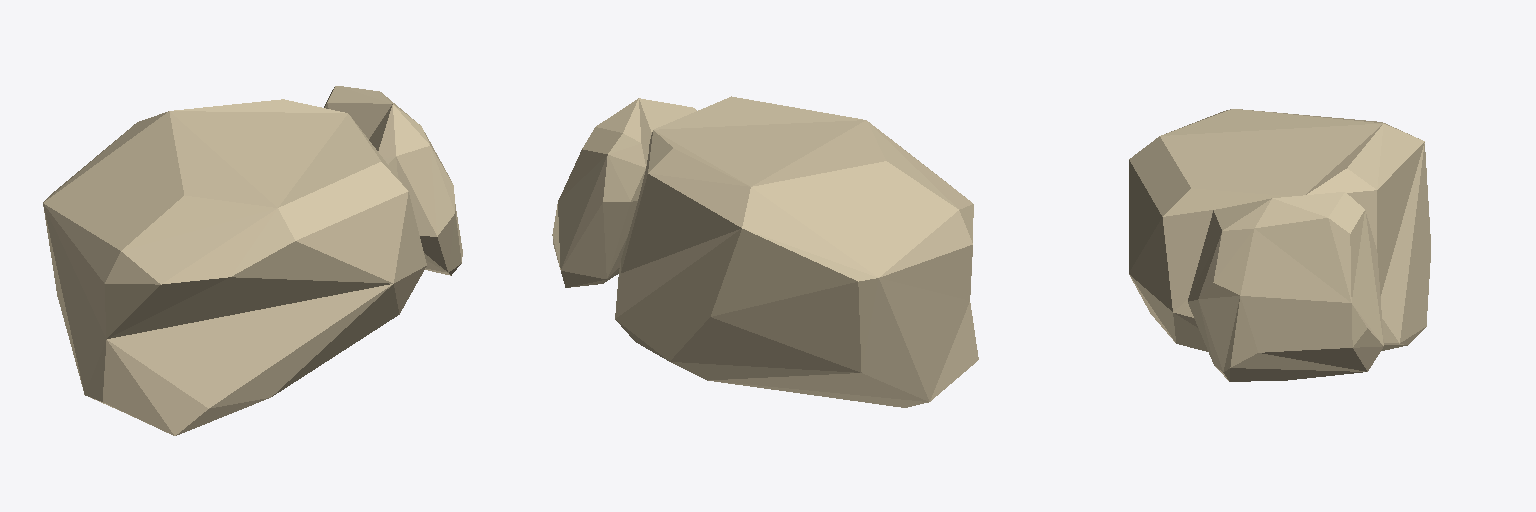
3 renders of one model, left to right at view 1: azimuth 30°, elevation 25°; view 2: azimuth 150°, elevation 25°; view 3: azimuth 270°, elevation 25°, orthographic.
Visible parts, largest first — view 1: 左手; view 2: 左手; view 3: 左手.
Part boxes in pixels (x1,y1,x2,y2): 左手: (43,86,462,435); 左手: (552,96,978,407); 左手: (1129,109,1430,381).
Size of the model in its own units: 0.9018 by 0.5796 by 0.649.
Materials: 1 (1 with a texture image).